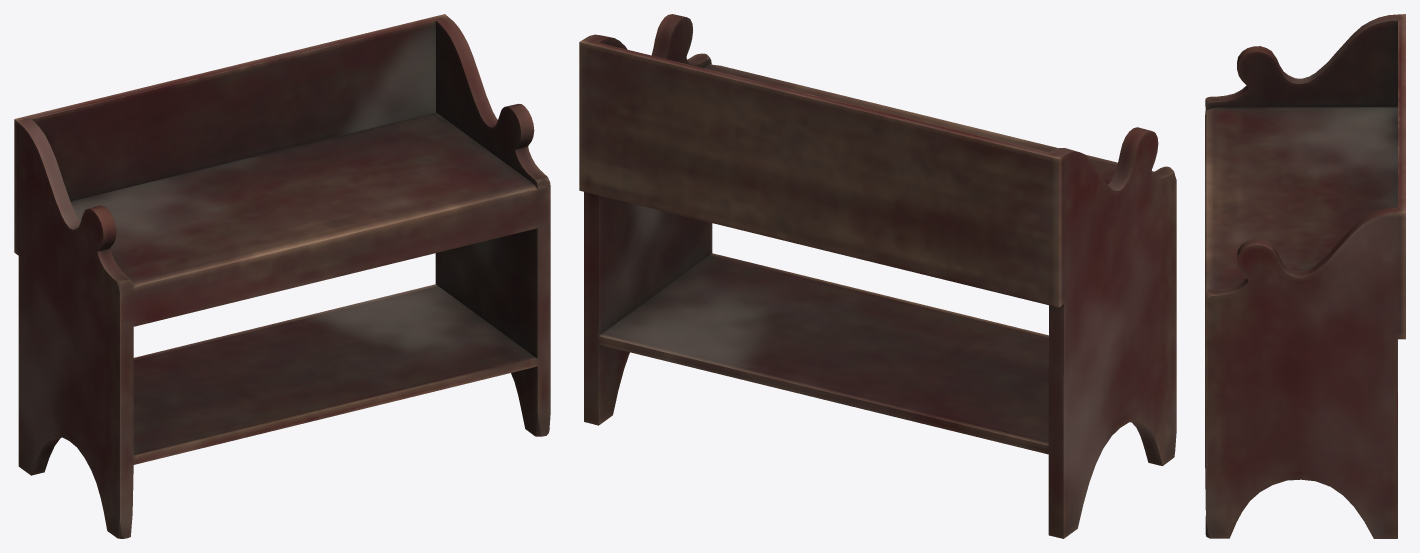
File: painted_wooden_bench.fbx
3 renders of one model, left to right at view 1: azimuth 30°, elevation 25°; view 2: azimuth 150°, elevation 25°; view 3: azimuth 270°, elevation 25°, orthographic. The views are drawn at different scales.
Parts seen in each view (by area): view 1: painted_wooden_bench; view 2: painted_wooden_bench; view 3: painted_wooden_bench.
Boxes of the visible parts, box(x1,y1,x2,y2) form: painted_wooden_bench: box(14, 14, 550, 538); painted_wooden_bench: box(579, 14, 1176, 538); painted_wooden_bench: box(1205, 14, 1405, 538).
Size of the model in its own units: 1.16 by 0.8893 by 0.4965.
